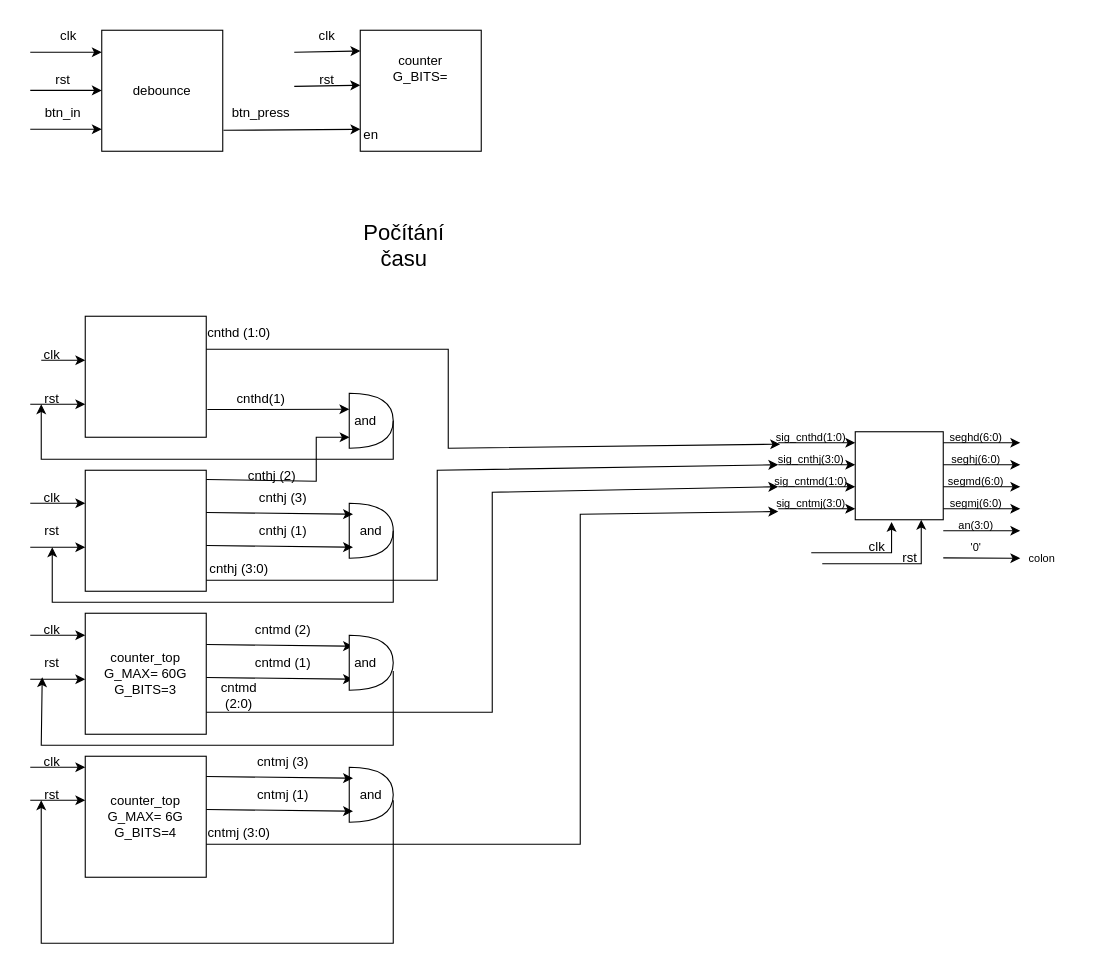
The diagram is 1093 pixels wide and 971 high, and some of its shapes have lost their labels. The box of each missing label's shape, as (x1, y1, x2, y2) in pixels:
counter_top G_MAX= 3600G G_BITS=2: (84, 315, 206, 437)
counter_top G_MAX= 360G G_BITS=4: (84, 469, 206, 591)
display driver: (854, 431, 943, 520)
